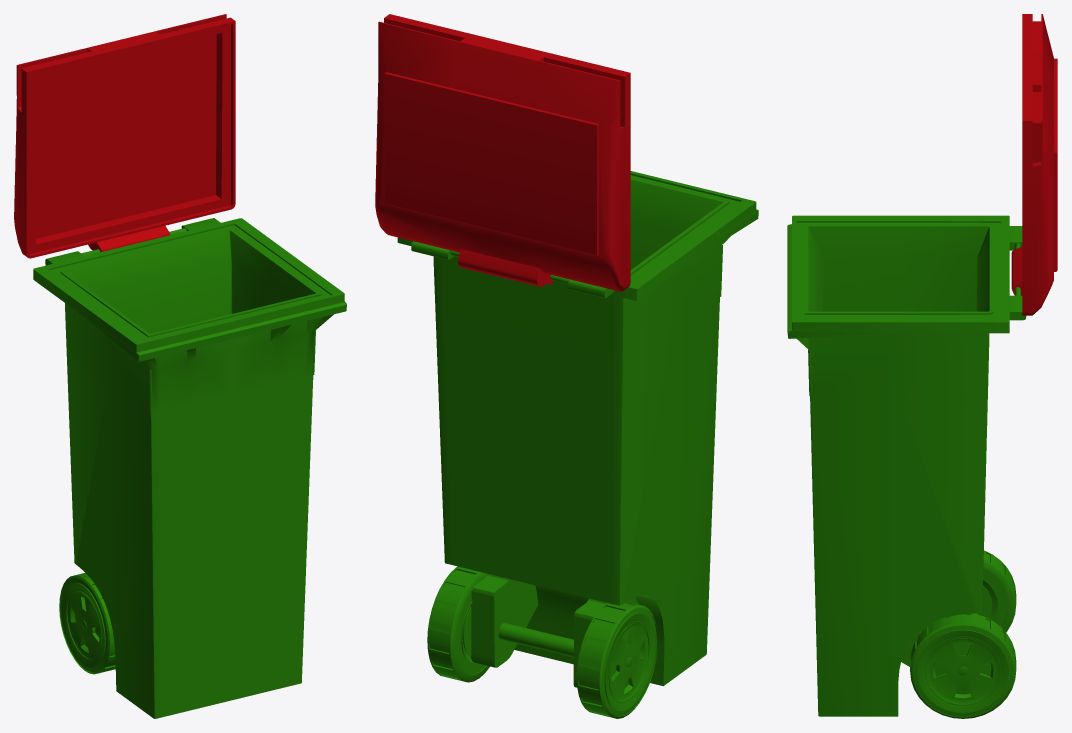
Rendered from bin1.fbx.
3 renders of one model, left to right at view 1: azimuth 30°, elevation 25°; view 2: azimuth 150°, elevation 25°; view 3: azimuth 270°, elevation 25°, orthographic. The views are drawn at different scales.
Parts seen in each view (by area): view 1: Lid; view 2: Lid; view 3: Lid.
Part boxes in pixels (left/top/right/bottom): Lid: left=14, top=14, right=346, bottom=718; Lid: left=375, top=14, right=758, bottom=718; Lid: left=787, top=14, right=1057, bottom=718.
Bounding box in the file's own units: 730 × 1953 × 780.
